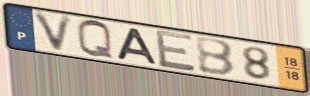8: (240, 46, 274, 82)
A: (115, 27, 160, 67)
B: (193, 36, 237, 79)
E: (153, 28, 198, 74)
Q: (75, 18, 116, 61)
V: (30, 9, 76, 56)
